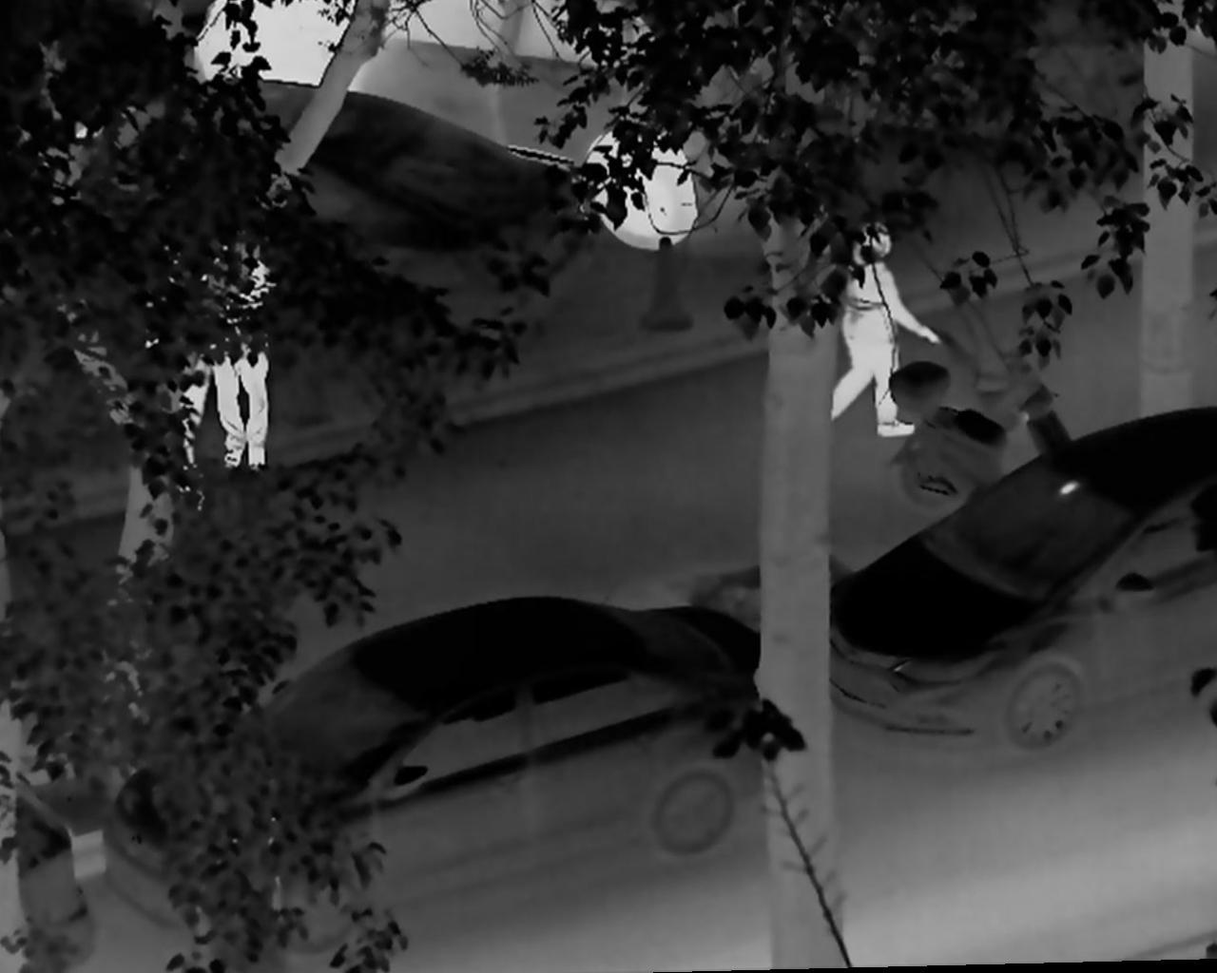person: (828, 219, 944, 437), (200, 216, 278, 481)
